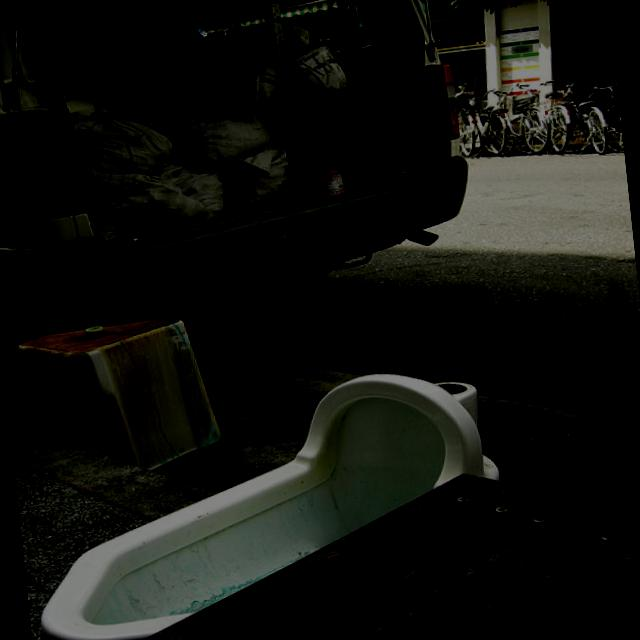Vehicle: (0, 0, 482, 330)
